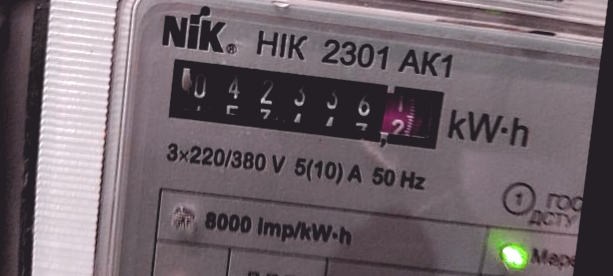0: (190, 71, 209, 100)
1: (393, 90, 407, 114)
2: (258, 75, 277, 106), (388, 116, 406, 136)
3: (321, 80, 341, 112), (290, 78, 308, 108)
4: (224, 70, 245, 101)
6: (355, 87, 376, 119)
screen: (154, 44, 458, 162)
